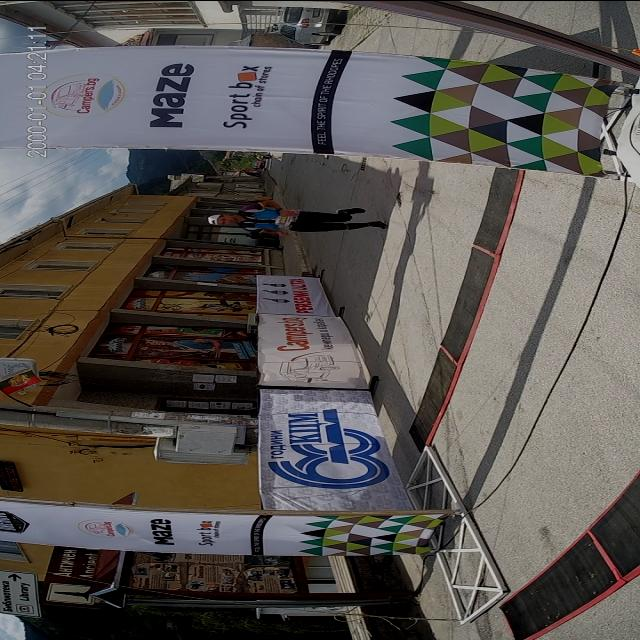runner: (195, 197, 388, 243)
